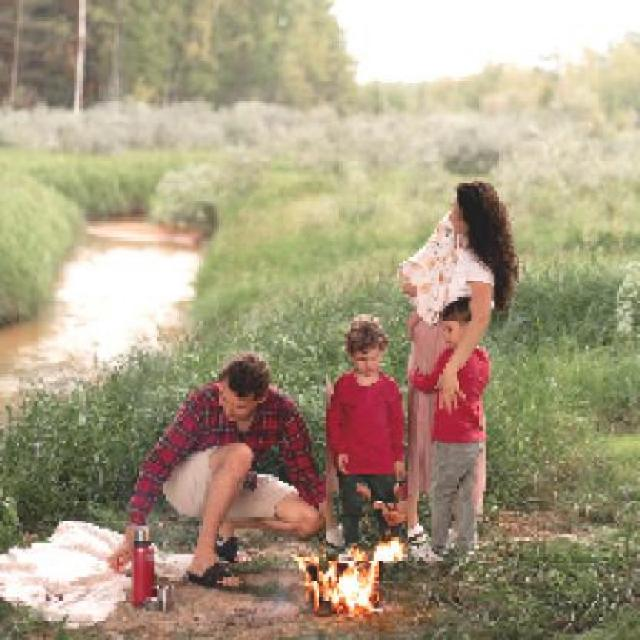child: (324, 313, 407, 562), (408, 294, 486, 557), (396, 214, 456, 340)
